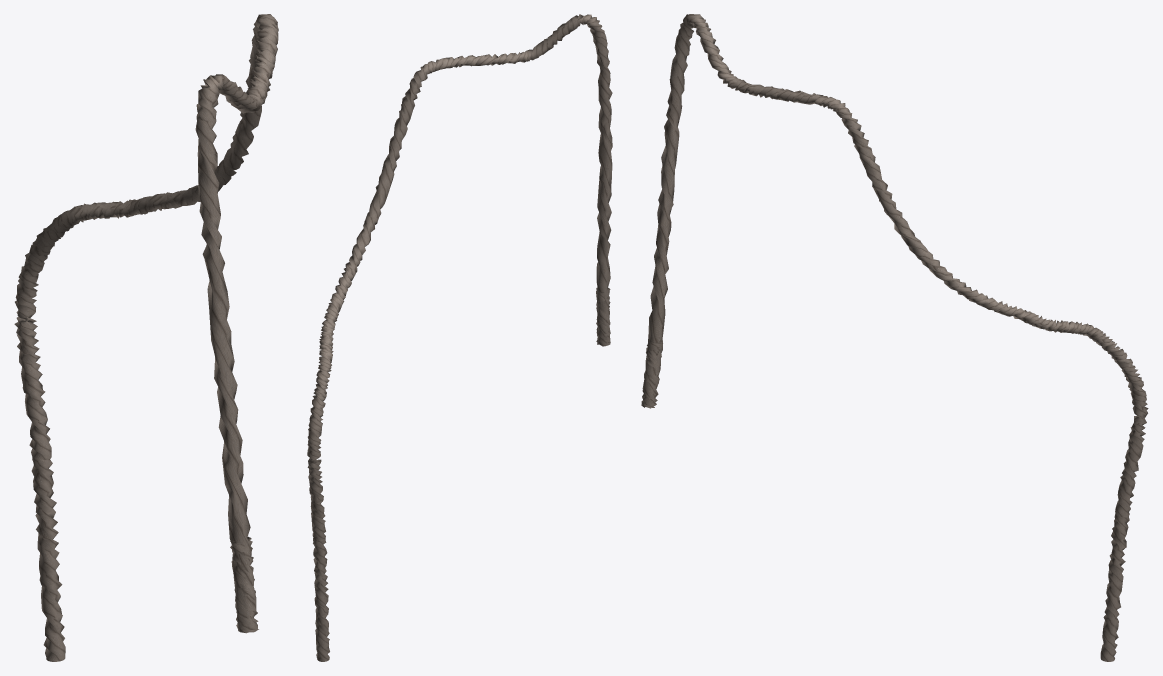
Rendered from SM_RopeSplineMesh_Splines_21.fbx.
The picture shows the model from 3 angles, left to right: view 1: azimuth 30°, elevation 25°; view 2: azimuth 150°, elevation 25°; view 3: azimuth 270°, elevation 25°; orthographic projection. The views are drawn at different scales.
Parts seen in each view (by area): view 1: SM_RopeSplineMesh_Splines_21; view 2: SM_RopeSplineMesh_Splines_21; view 3: SM_RopeSplineMesh_Splines_21.
Boxes of the visible parts, box(x1,y1,x2,y2) form: SM_RopeSplineMesh_Splines_21: box(14, 14, 278, 661); SM_RopeSplineMesh_Splines_21: box(307, 14, 612, 661); SM_RopeSplineMesh_Splines_21: box(641, 14, 1148, 661).
Size of the model in its own units: 45.58 by 130 by 169.
